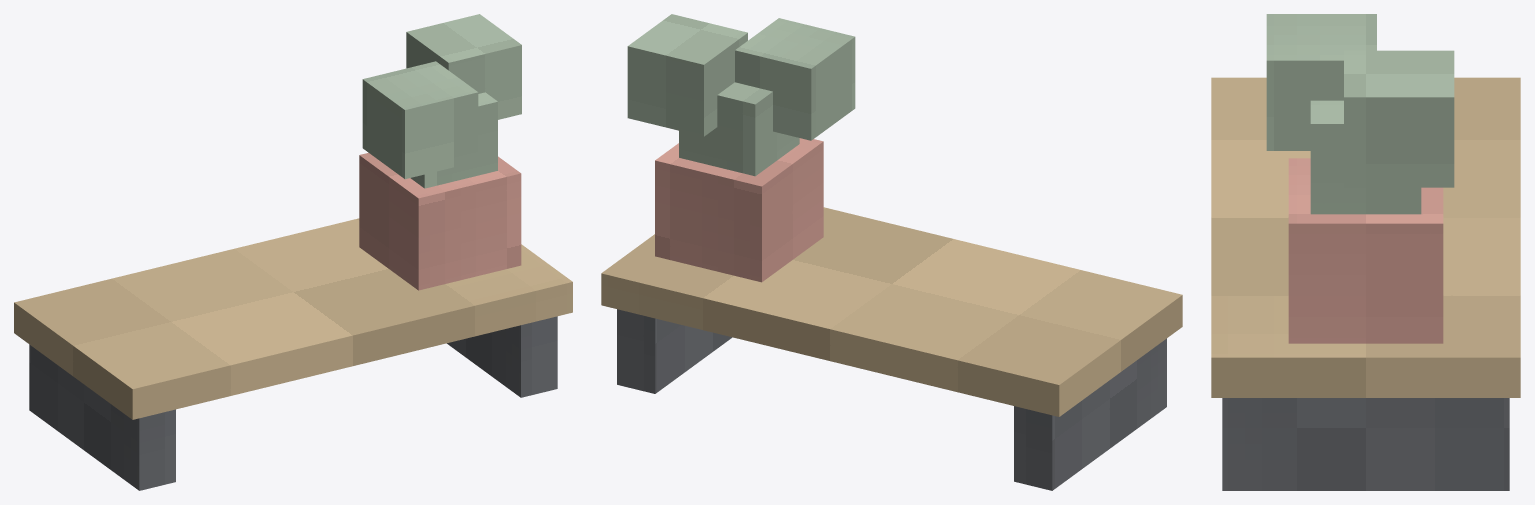
Rendered from pixel-modern-office-monitor-riser-plant-8eb0f792.glb.
3 views of the same model, side by side, from view 1: azimuth 30°, elevation 25°; view 2: azimuth 150°, elevation 25°; view 3: azimuth 270°, elevation 25° (orthographic). The views are drawn at different scales.
Visible parts, largest first — view 1: monitor-riser-plant; view 2: monitor-riser-plant; view 3: monitor-riser-plant.
Part boxes in pixels (<box>): monitor-riser-plant: <box>14,14,572,490</box>; monitor-riser-plant: <box>601,14,1182,490</box>; monitor-riser-plant: <box>1211,14,1520,490</box>.
Bounding box in the file's own units: 0.6 × 0.4 × 0.28.
4 materials, 4 textured.
